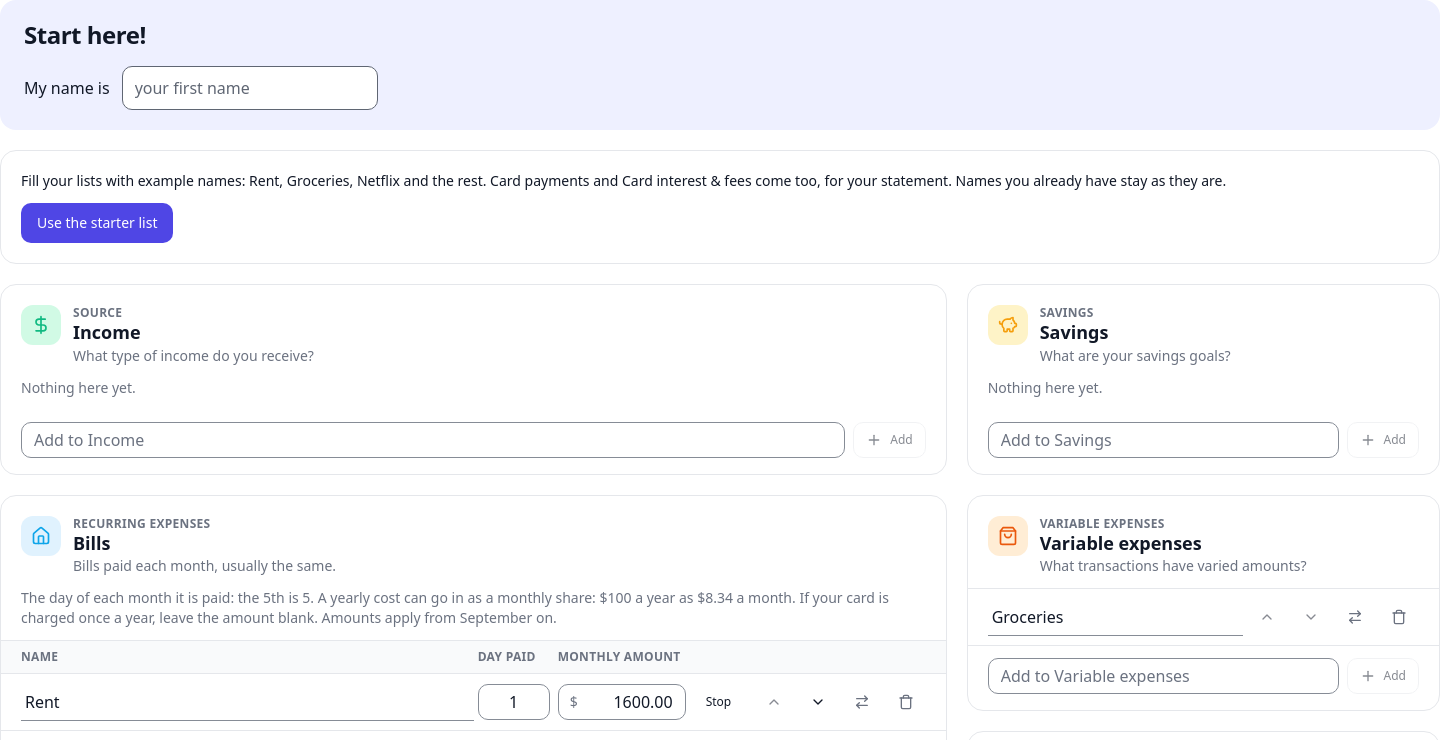
Lists, day paid and monthly amount › saves an amount from this month on, keeping the day and every earlier month
Replace the text in the field named "Monthly amount for Rent, from September on" with "$1,650" at (622, 702), box [558,684,686,720]
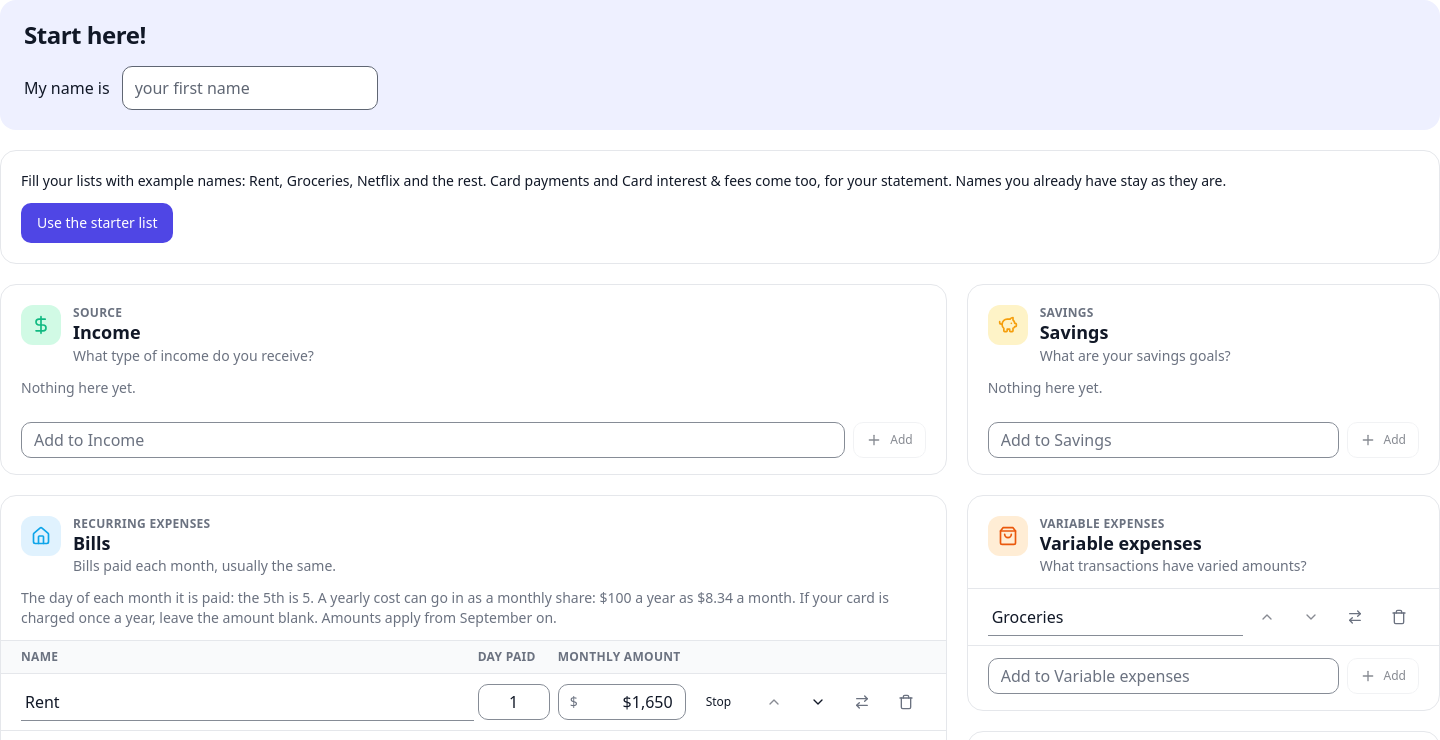
Leave the field named "Monthly amount for Rent, from September on", box [558,684,686,720]
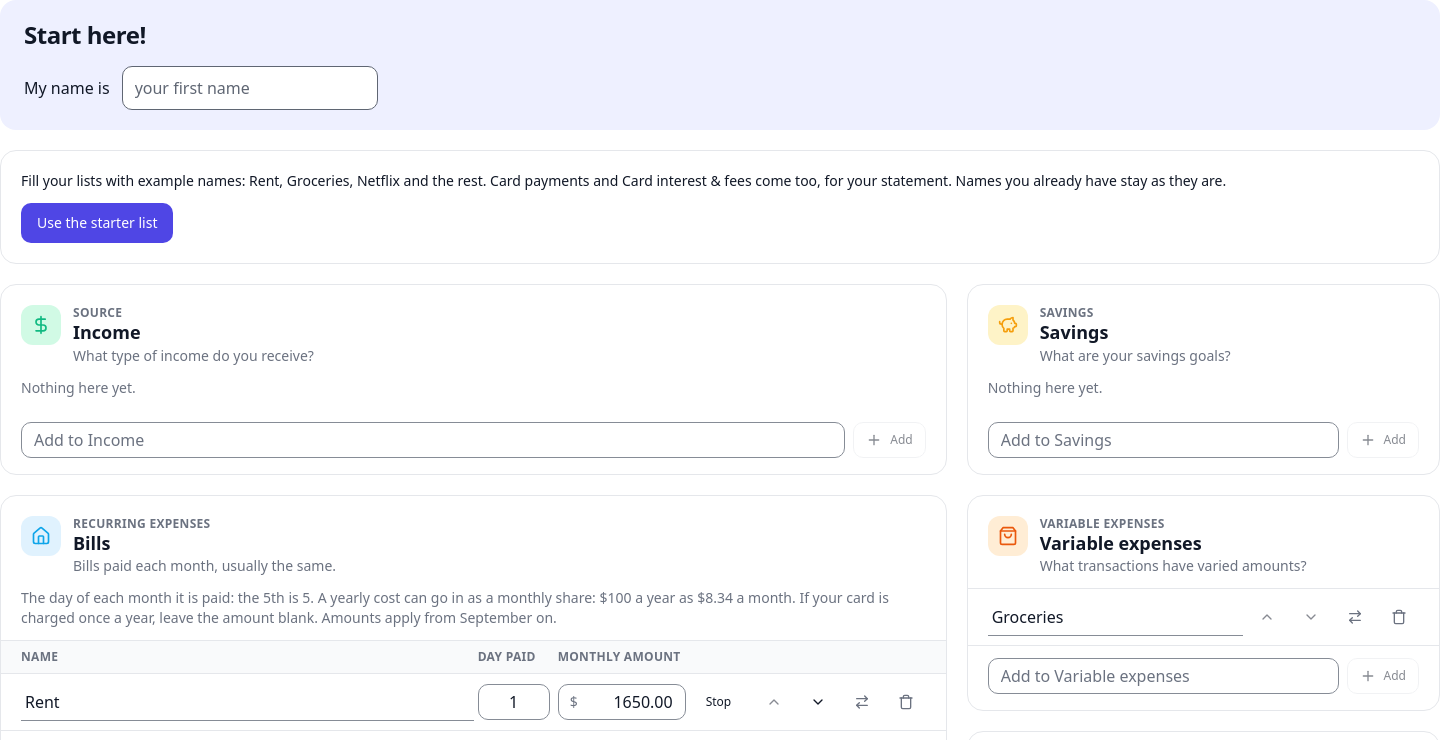
Check: the field named "Monthly amount for Rent, from September on" holds "1650.00", box [558,684,686,720]
